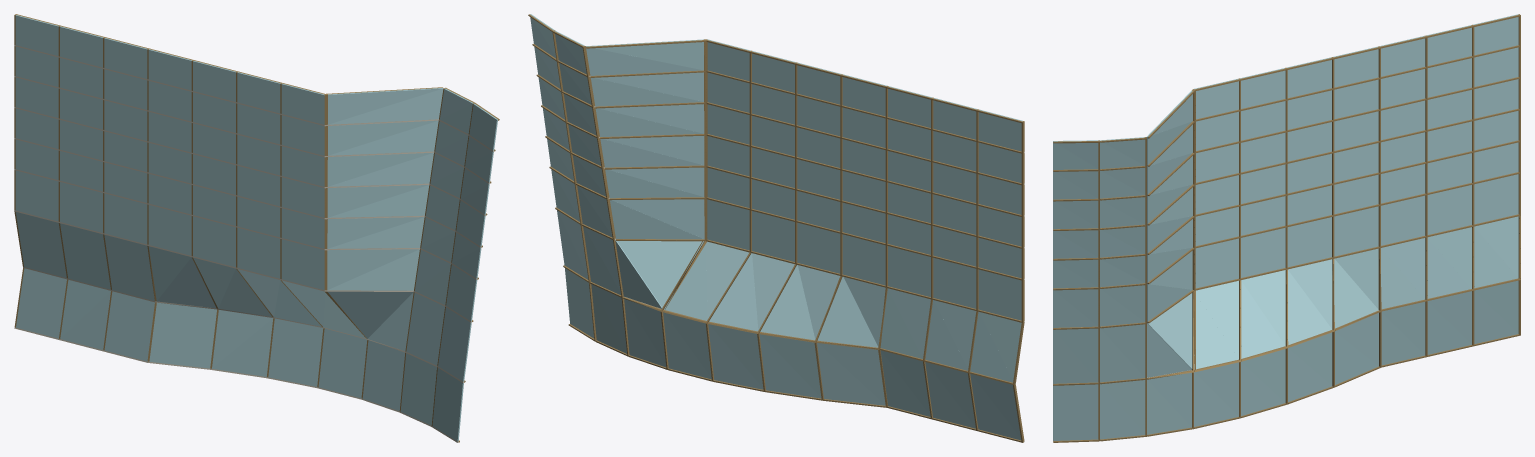
The model's file is G7_Completion_R005B_Body_-1_08.glb.
3 views of the same model, side by side, from view 1: azimuth 30°, elevation 25°; view 2: azimuth 210°, elevation 25°; view 3: azimuth 270°, elevation 25° (orthographic). The views are drawn at different scales.
Visible parts, largest first — view 1: Body_-1_08_G7C3_glass_solid_skin, Body_-1_08_G7C3_shell_solid_skin, Body_-1_08_G7C3_metal_solid_skin, Body_-1_08_G7C3_metal_solid_frame; view 2: Body_-1_08_G7C3_glass_solid_skin, Body_-1_08_G7C3_metal_solid_frame, Body_-1_08_G7C3_metal_solid_skin; view 3: Body_-1_08_G7C3_glass_solid_skin, Body_-1_08_G7C3_metal_solid_frame.
Part boxes in pixels (left/top/right/bottom): Body_-1_08_G7C3_glass_solid_skin: left=15, top=15, right=497, bottom=441; Body_-1_08_G7C3_shell_solid_skin: left=14, top=45, right=493, bottom=442; Body_-1_08_G7C3_metal_solid_skin: left=14, top=14, right=474, bottom=425; Body_-1_08_G7C3_metal_solid_frame: left=15, top=14, right=499, bottom=442; Body_-1_08_G7C3_glass_solid_skin: left=530, top=14, right=1022, bottom=440; Body_-1_08_G7C3_metal_solid_frame: left=528, top=14, right=1023, bottom=442; Body_-1_08_G7C3_metal_solid_skin: left=554, top=30, right=1024, bottom=440; Body_-1_08_G7C3_glass_solid_skin: left=1053, top=14, right=1518, bottom=440; Body_-1_08_G7C3_metal_solid_frame: left=1053, top=14, right=1520, bottom=442.
Size of the model in its own units: 39.07 by 45.5 by 60.19.
3 materials, 2 textured.
